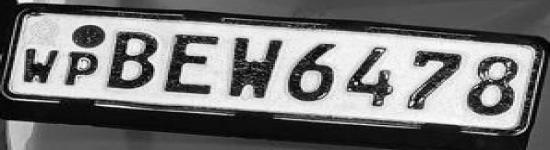4: (339, 43, 399, 110)
6: (286, 38, 340, 108)
7: (401, 46, 465, 117)
9: (466, 51, 522, 119)
B: (105, 25, 161, 92)
E: (160, 27, 222, 98)
P: (62, 50, 101, 89)
W: (223, 32, 286, 102), (21, 46, 60, 86)
